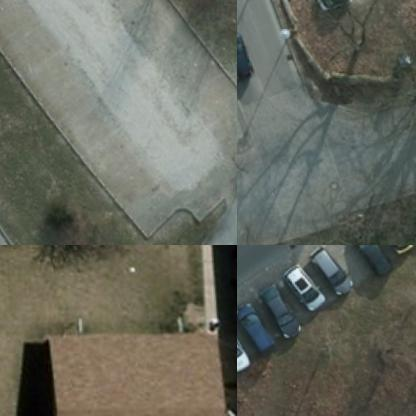car: (304, 245, 347, 296), (277, 262, 320, 312), (254, 285, 296, 335), (237, 301, 268, 352), (303, 0, 362, 23), (344, 245, 389, 275), (370, 245, 414, 262), (237, 28, 251, 81), (237, 320, 246, 371)
